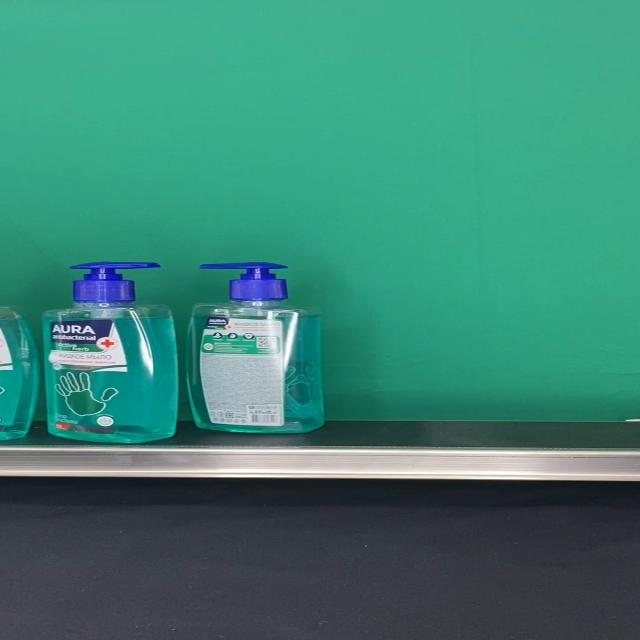Bottle: (42, 262, 176, 443), (185, 263, 324, 433)
Cap: (197, 263, 290, 303), (70, 262, 162, 302)
